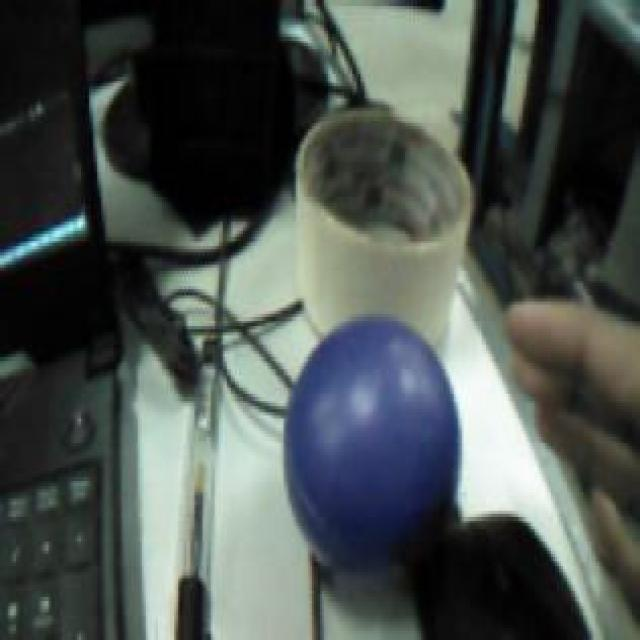BallPurple: (282, 316, 459, 580)
